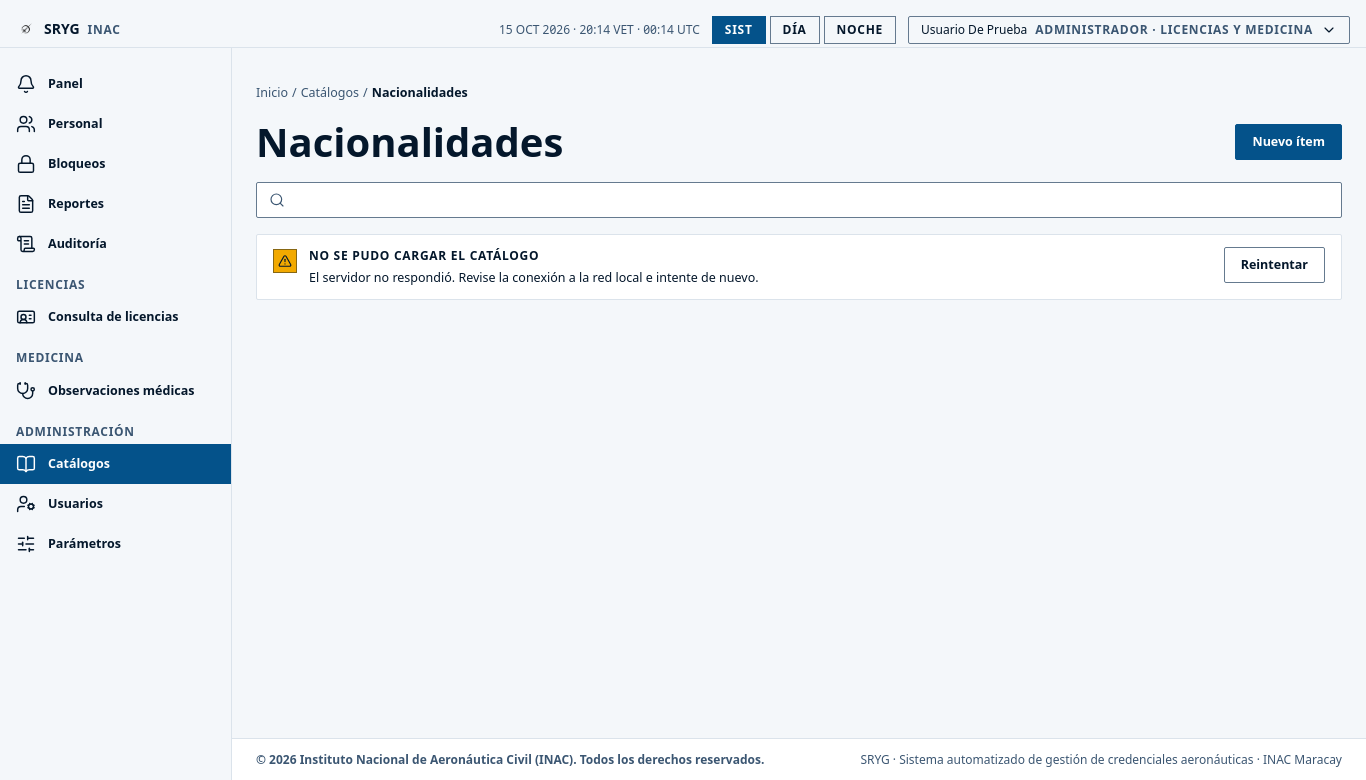
Test case: /catalogos/:catalogo (D19) › shows the error state and retries
The width and height of the screenshot is (1366, 780).
Expected: the text "No se pudo cargar el catálogo" is shown, [309,247,539,264]
Click the button "Reintentar".
click(1274, 265)  # box [1224,247,1325,283]
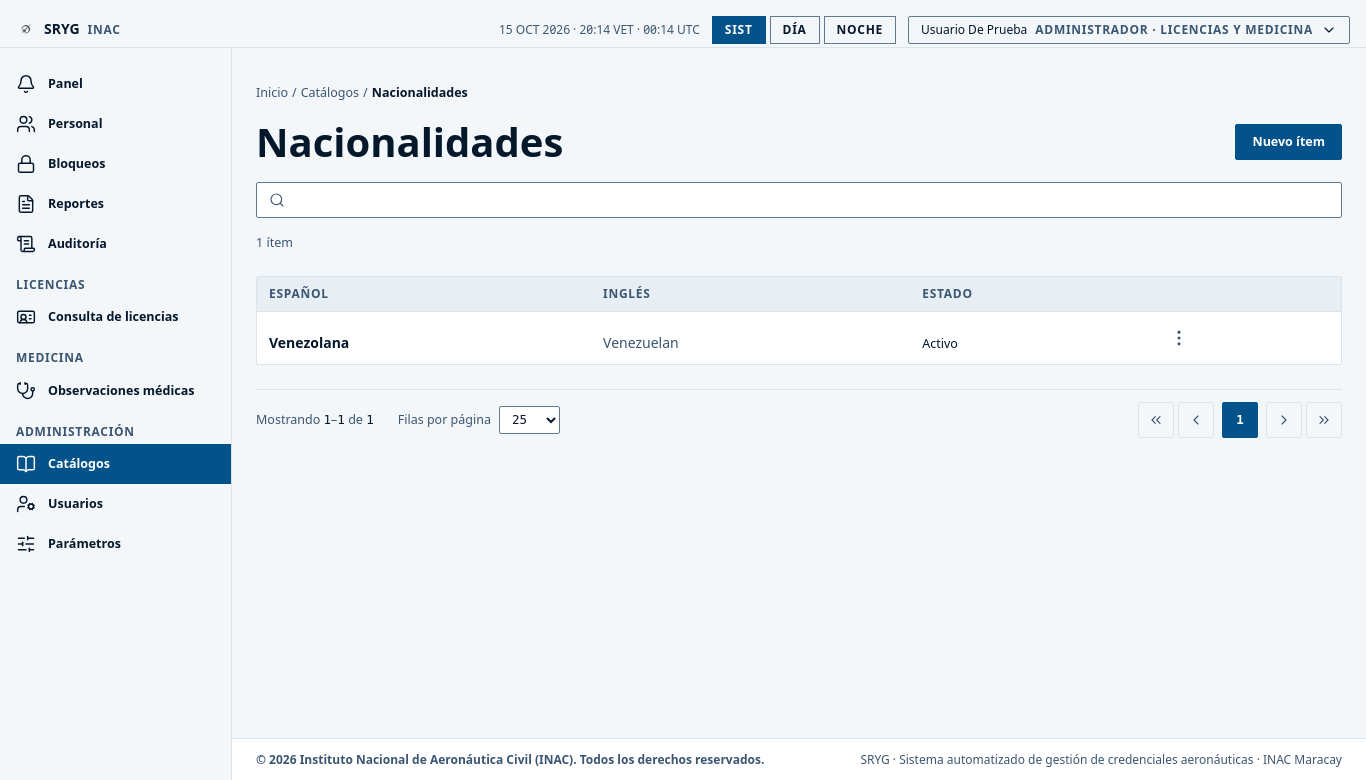
Now the text "Venezolana" is shown, box [257,312,591,364]
